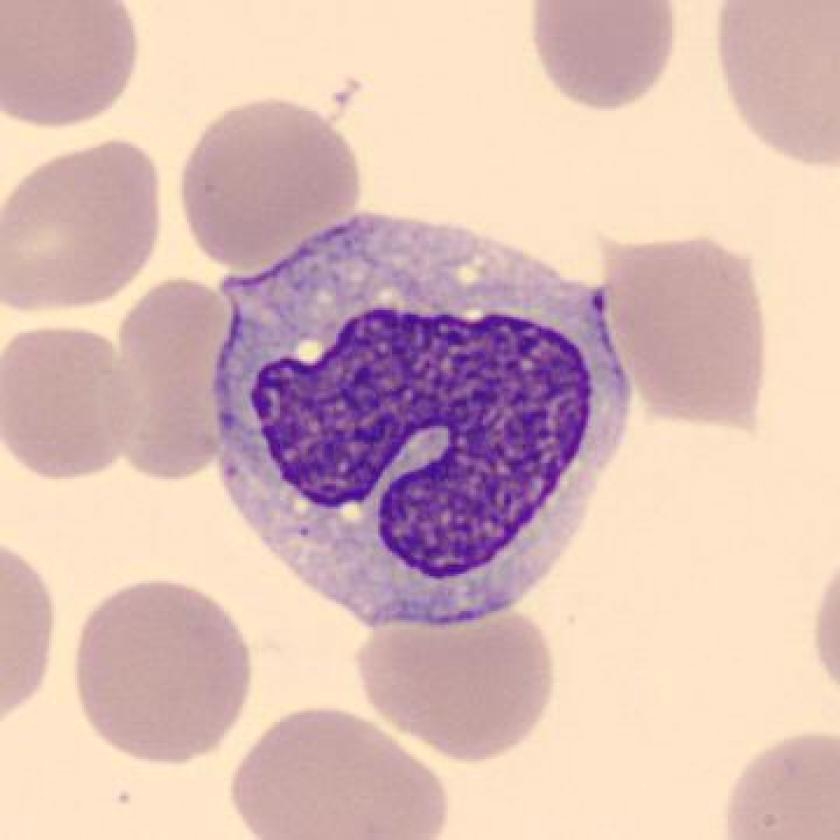monocyte: (195, 198, 650, 649)
